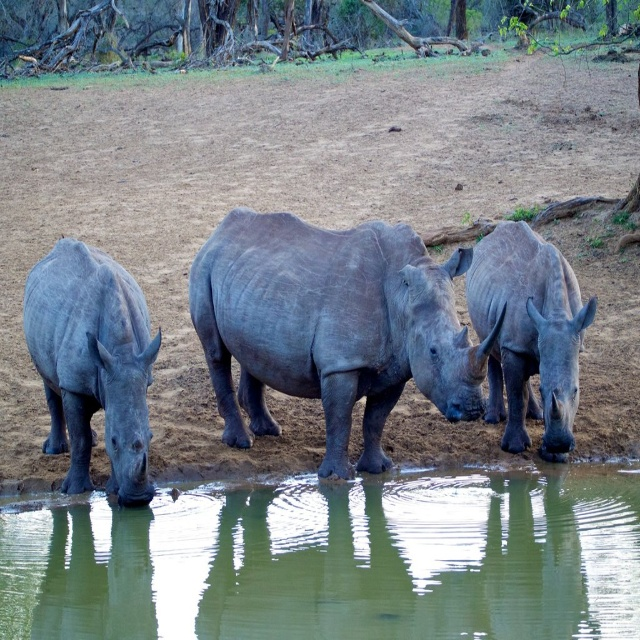Rhinoceros: (190, 206, 508, 479), (23, 237, 162, 508), (466, 219, 596, 460)
